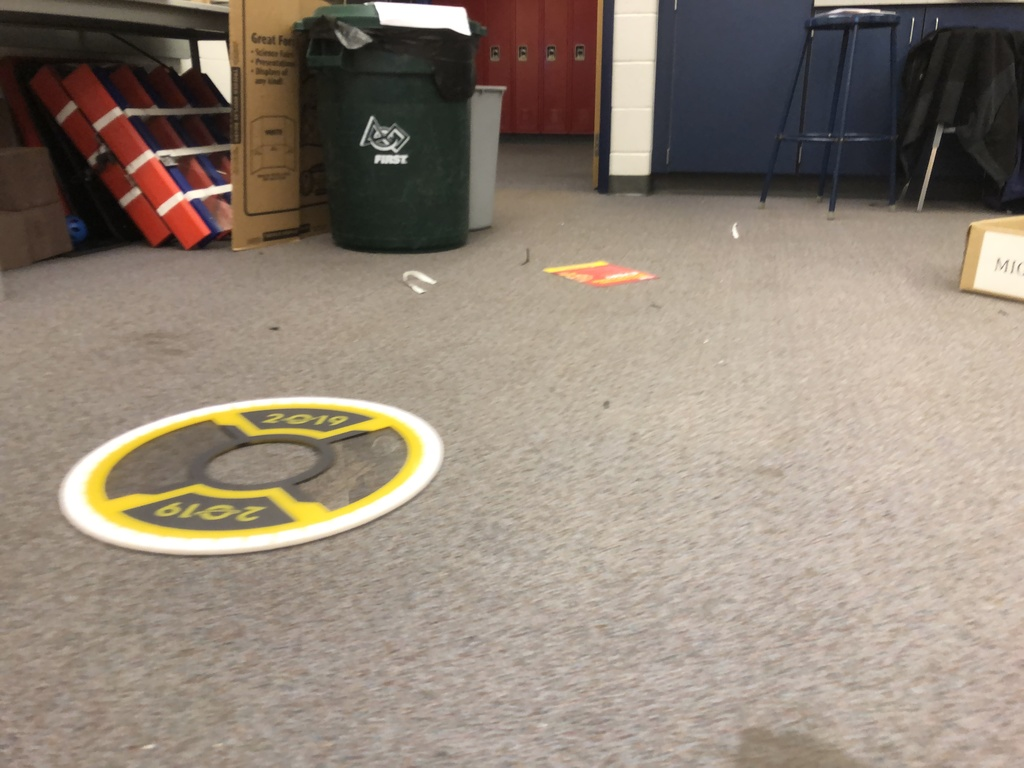hatch_panel: (52, 381, 460, 562)
